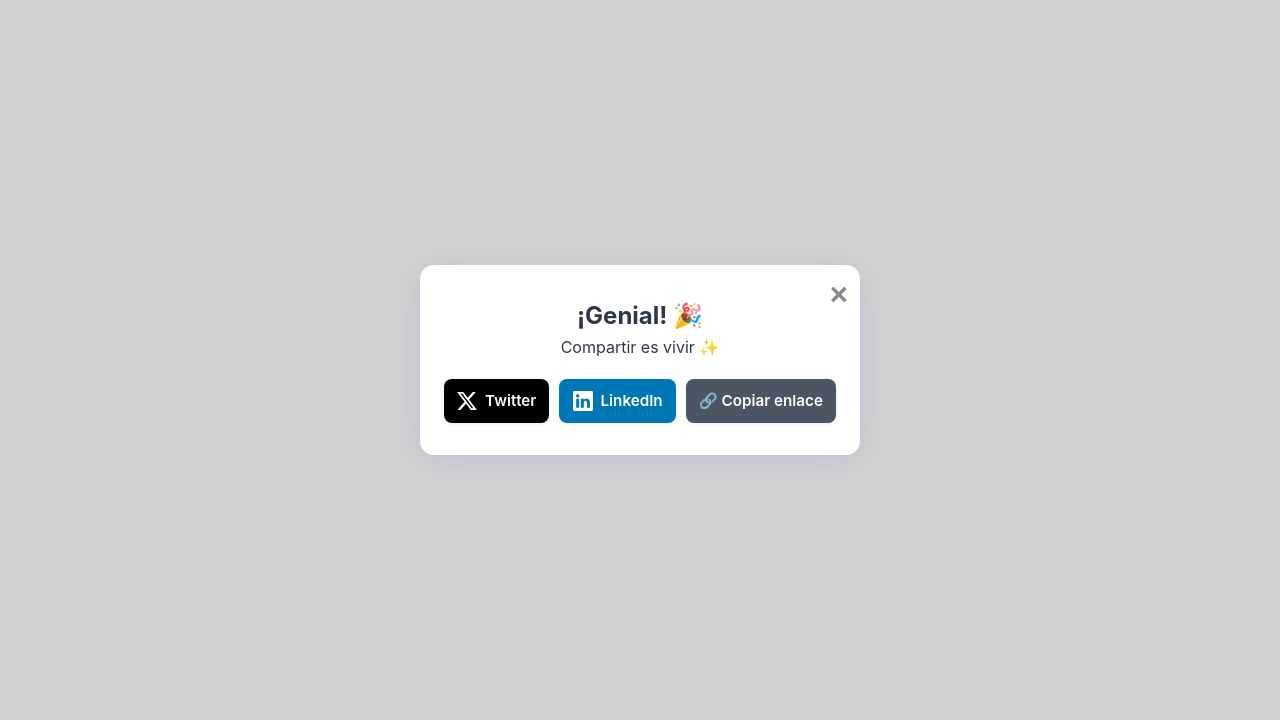
Scenario: ShareModal: copiar enlace › avisa si el navegador no deja copiar
Step 1. Click the button "🔗 Copiar enlace" → {"x": 761, "y": 401}, box [686,379,836,423]
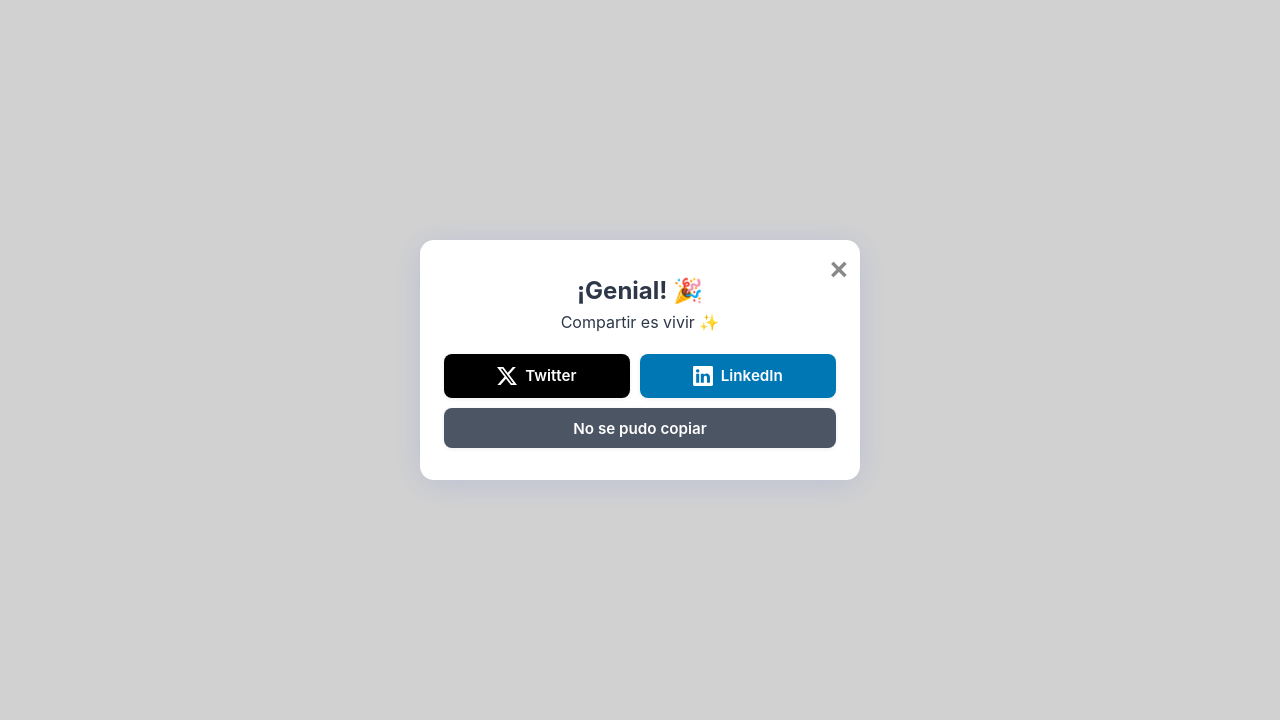
Check: the button "No se pudo copiar" is shown, box [444,408,836,448]
